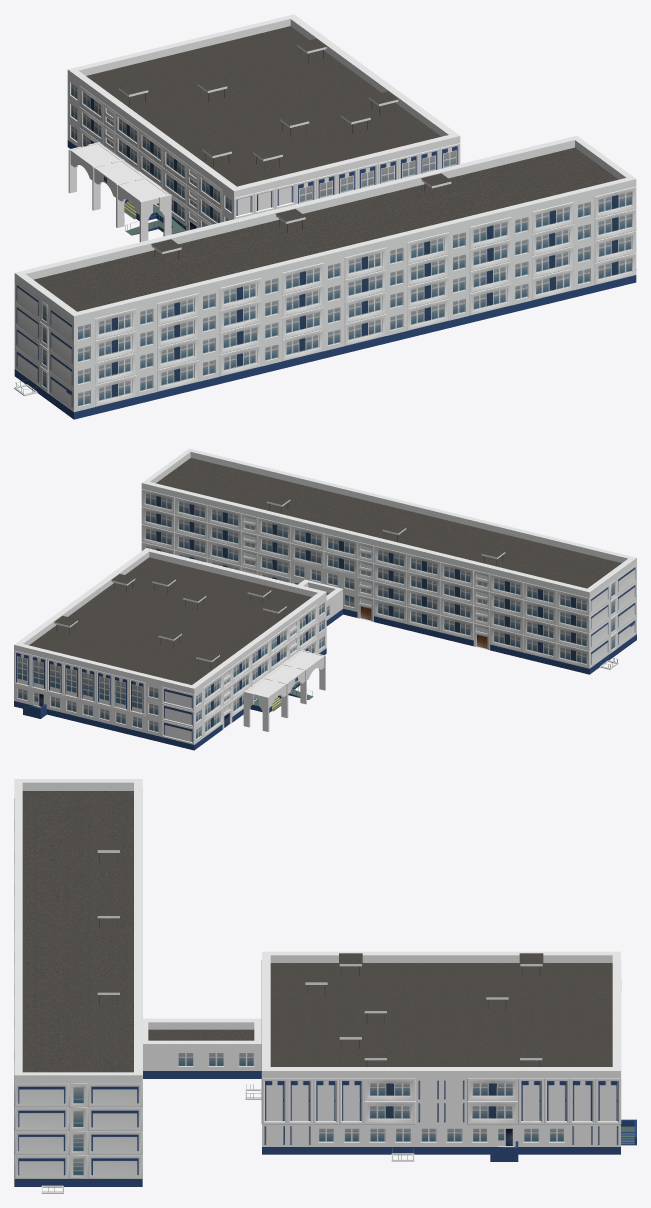
3 views of the same model, one above another, from view 1: azimuth 30°, elevation 25°; view 2: azimuth 150°, elevation 25°; view 3: azimuth 270°, elevation 25° (orthographic). The views are drawn at different scales.
Parts seen in each view (by area): view 1: Object_4, Object_7, Object_10, Object_9, Object_8, Object_3; view 2: Object_4, Object_7, Object_10, Object_9, Object_5, Object_8, Object_3; view 3: Object_7, Object_4, Object_5, Object_9, Object_3, Object_8.
Part boxes in pixels (bbox=[...]): Object_4: bbox=[14, 135, 636, 419]; Object_7: bbox=[67, 14, 460, 230]; Object_10: bbox=[68, 142, 171, 241]; Object_9: bbox=[118, 38, 451, 262]; Object_8: bbox=[118, 44, 451, 254]; Object_3: bbox=[124, 199, 185, 235]; Object_4: bbox=[141, 448, 636, 674]; Object_7: bbox=[14, 548, 326, 750]; Object_10: bbox=[243, 649, 325, 731]; Object_9: bbox=[54, 495, 505, 668]; Object_5: bbox=[298, 579, 342, 625]; Object_8: bbox=[54, 499, 505, 662]; Object_3: bbox=[23, 681, 313, 718]; Object_7: bbox=[261, 951, 621, 1154]; Object_4: bbox=[14, 779, 142, 1186]; Object_5: bbox=[143, 1018, 261, 1078]; Object_9: bbox=[97, 839, 543, 1066]; Object_3: bbox=[490, 1119, 636, 1161]; Object_8: bbox=[97, 850, 542, 1060].
Size of the model in its own units: 2.6 by 0.4606 by 2.21.
Materials: 9 (6 with a texture image).
